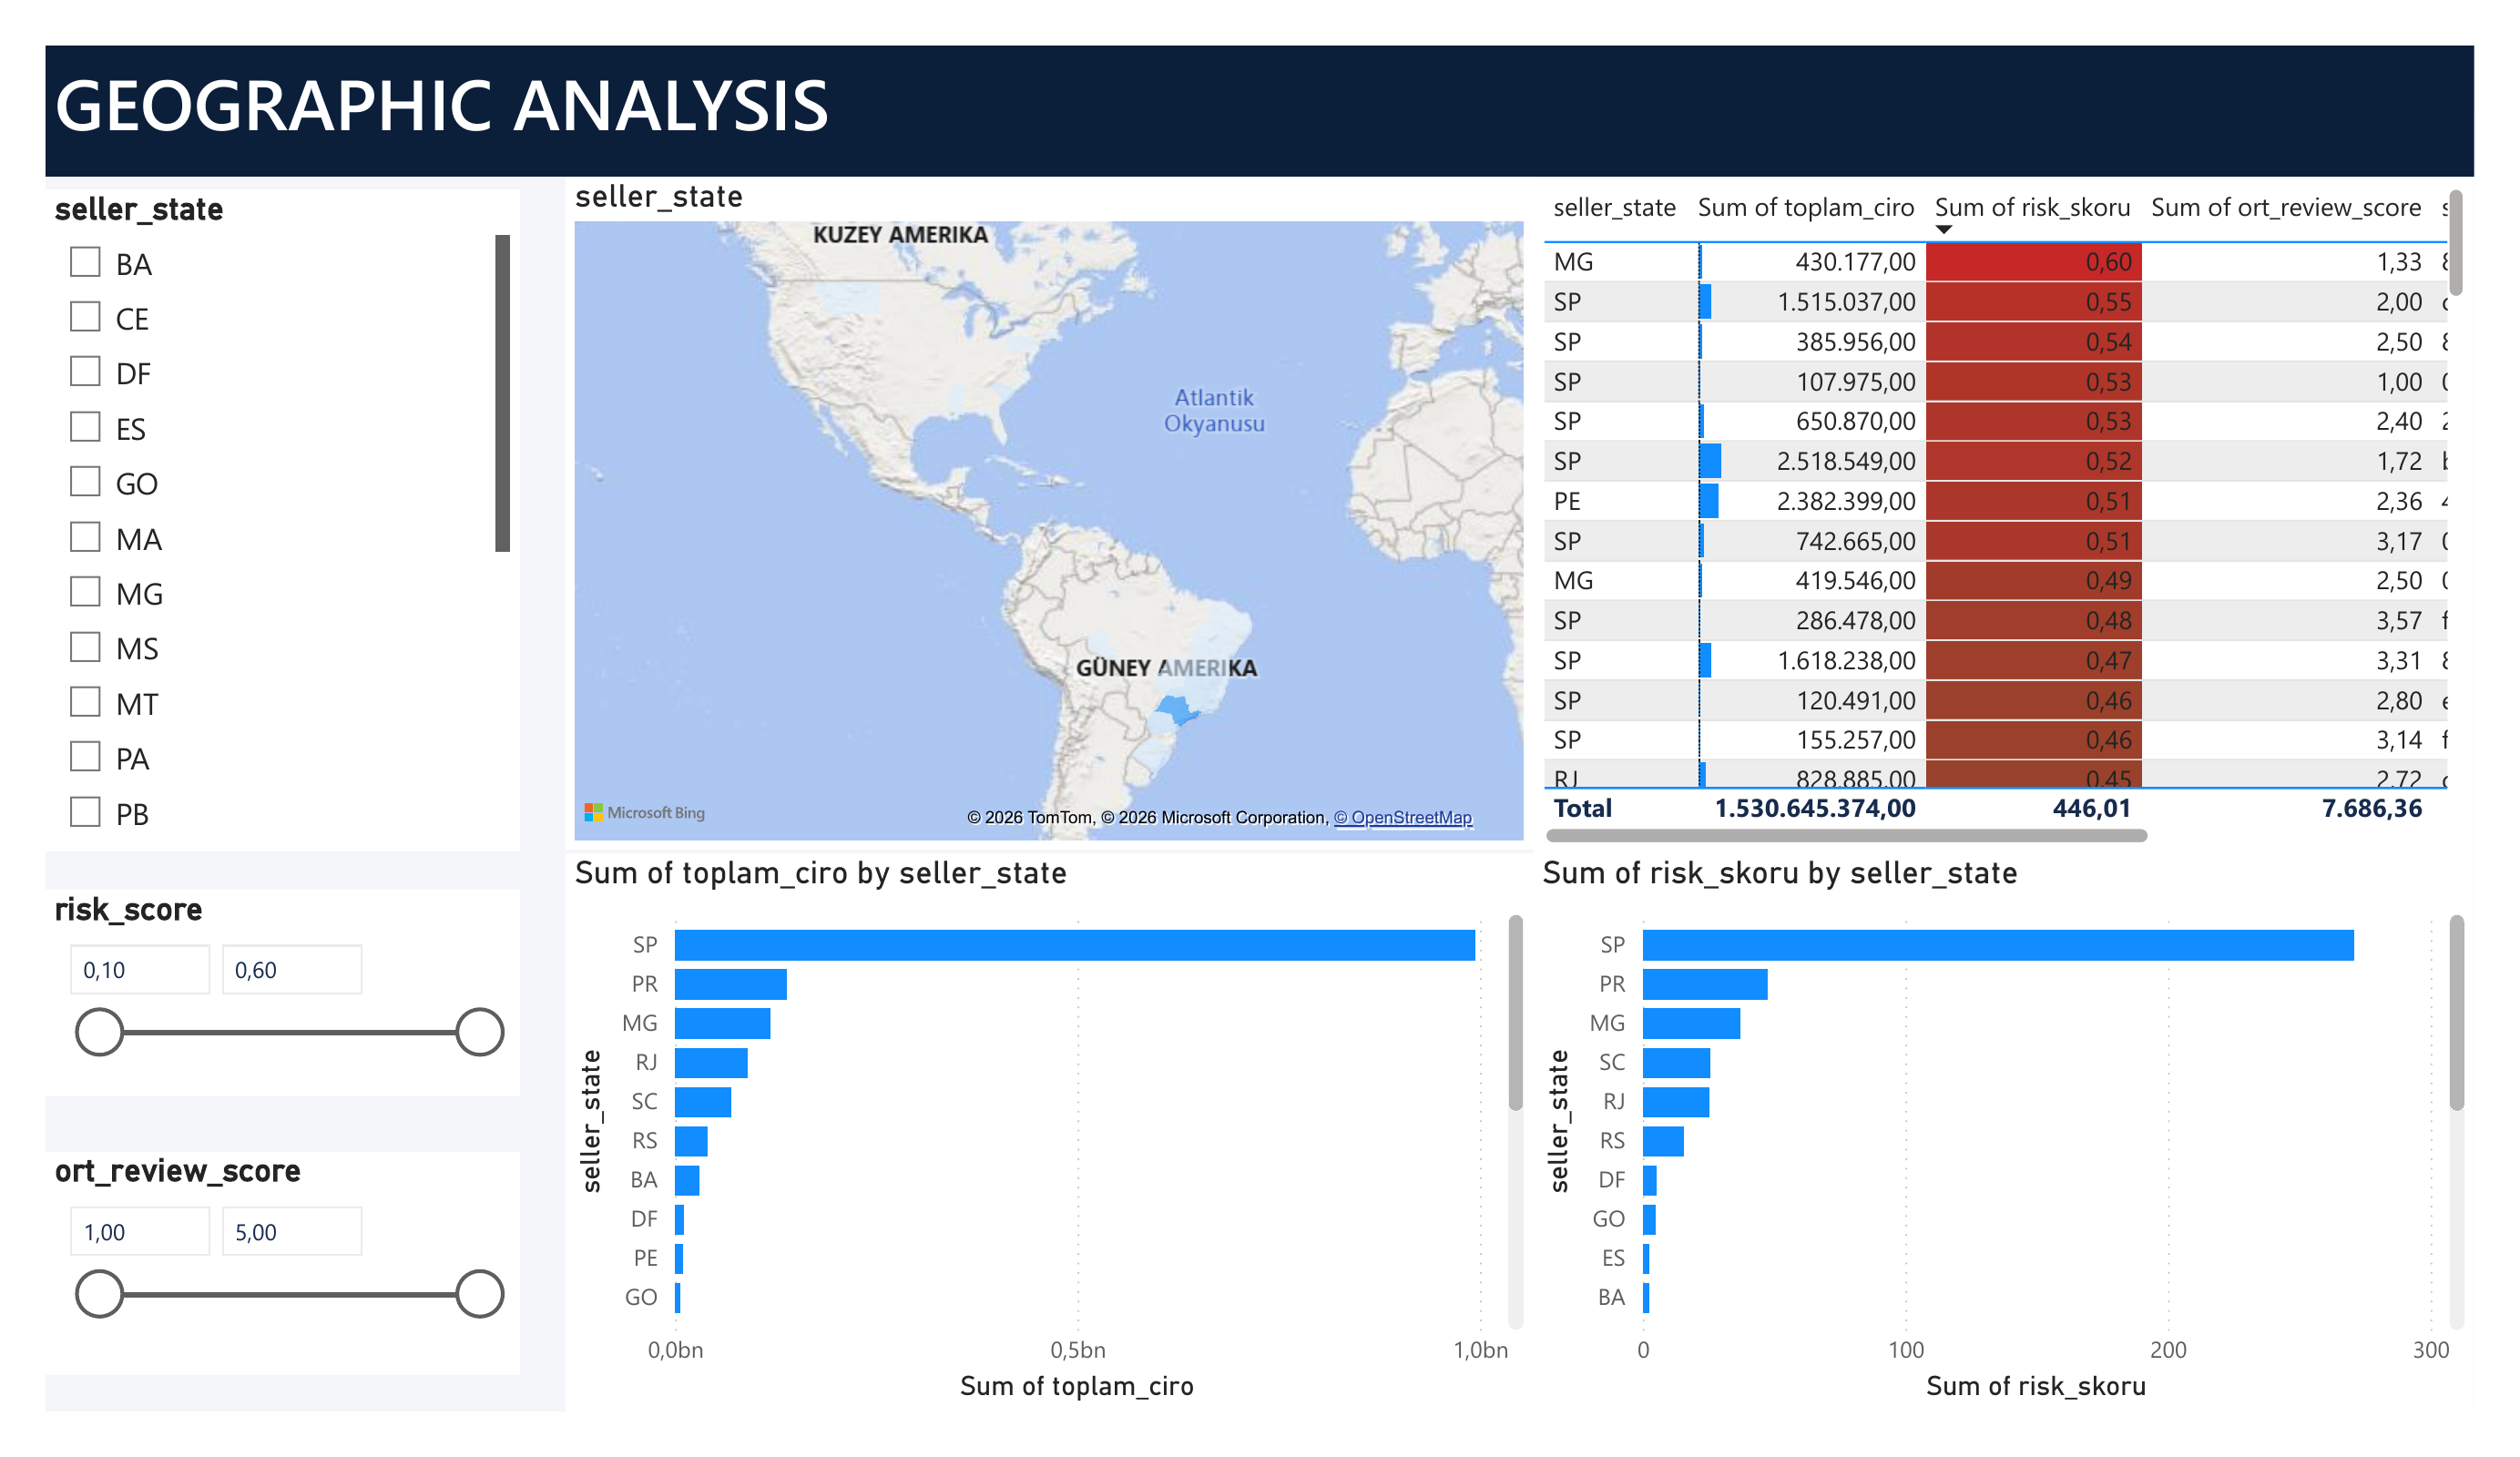

Layout of this report page (visuals, bound fields, positions):
{"tool":"powerbi","page":{"name":"Geographic Analysis","canvas":[1280,720],"ordinal":4},"visuals":[{"type":"textbox","box":[0,0,1280,68.6],"z":0},{"type":"filledMap","fields":{"Category":["Query1.seller_state"]},"box":[273.8,68.8,510,355],"z":1000},{"type":"slicer","title":"seller_state","fields":{"Values":["Query1.seller_state"]},"box":[0,76.2,250,348.8],"z":2000},{"type":"slicer","title":"risk_score","fields":{"Values":["Query1.risk_skoru"]},"box":[0,445,250,108.8],"z":3000},{"type":"tableEx","fields":{"Values":["Query1.seller_state","Sum(Query1.toplam_ciro)","Sum(Query1.risk_skoru)","Sum(Query1.ort_review_score)","Query1.seller_id"]},"box":[783.8,70,496.2,356.2],"z":4000},{"type":"slicer","title":"ort_review_score","fields":{"Values":["Query1.ort_review_score"]},"box":[0,582.5,250,118.8],"z":5000},{"type":"clusteredBarChart","fields":{"Category":["Query1.seller_state"],"Y":["Sum(Query1.toplam_ciro)"]},"box":[273.8,426.2,510,293.8],"z":6000},{"type":"clusteredBarChart","fields":{"Category":["Query1.seller_state"],"Y":["Sum(Query1.risk_skoru)"]},"box":[783.8,426.2,496.2,293.8],"z":7000}]}

Visuals, with their boxes on the page's 1280x720 design canvas (x1, y1, x2, y2). These are canvas units, not pixel positions in the 2520x1457 screenshot, which may show the page scaled, cropped or inside an application window:
textbox: bbox(0, 0, 1280, 69)
filledMap - Query1.seller_state: bbox(274, 69, 784, 424)
"seller_state" slicer: bbox(0, 76, 250, 425)
"risk_score" slicer: bbox(0, 445, 250, 554)
tableEx - Query1.seller_state x Sum(Query1.toplam_ciro): bbox(784, 70, 1280, 426)
"ort_review_score" slicer: bbox(0, 582, 250, 701)
clusteredBarChart - Query1.seller_state x Sum(Query1.toplam_ciro): bbox(274, 426, 784, 720)
clusteredBarChart - Query1.seller_state x Sum(Query1.risk_skoru): bbox(784, 426, 1280, 720)
